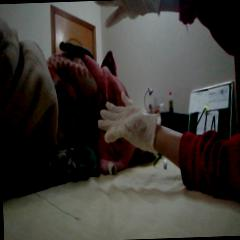gloved: (98, 90, 162, 155), (95, 0, 162, 29)
